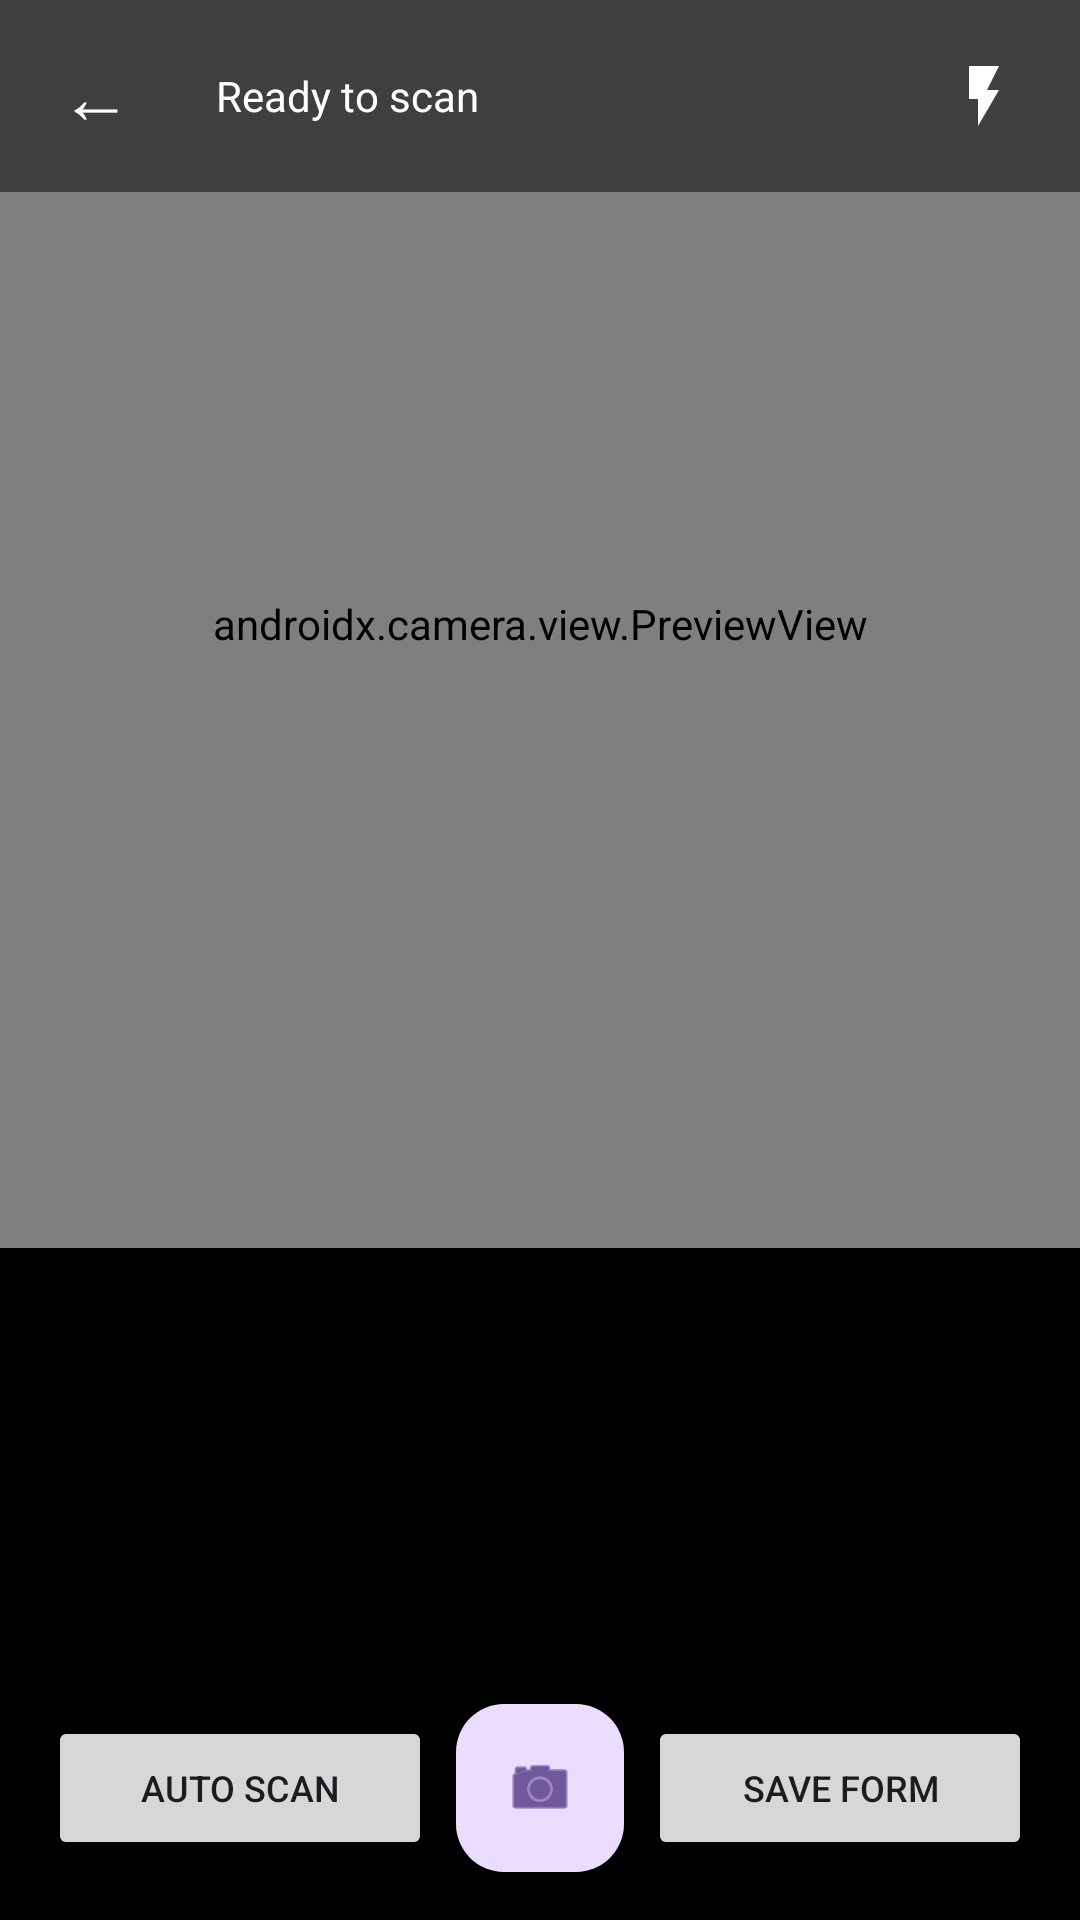

Icon click points for this 1080 x 1920 phone screenshot, format point (x, y):
Capture image: point (540, 1788)
Toggle flash: point (984, 96)
